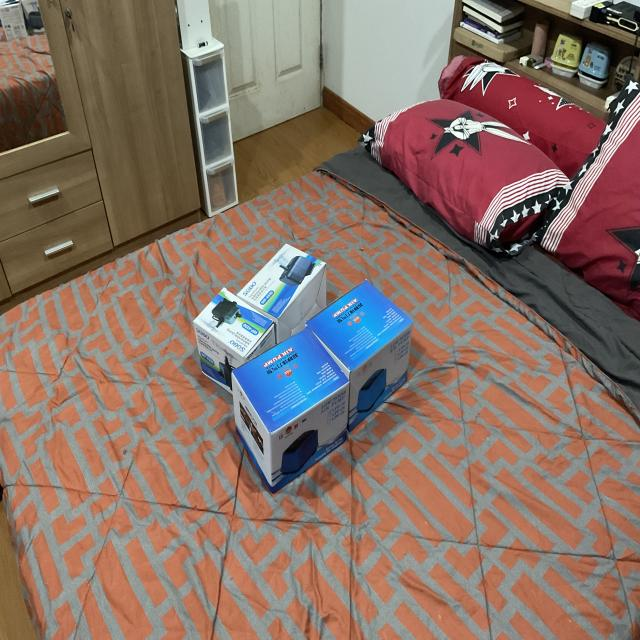SOBO_WP_4200: (235, 225, 332, 334), (192, 276, 279, 381)
YAMANO_LPP_20: (227, 330, 356, 502), (303, 275, 433, 440)
